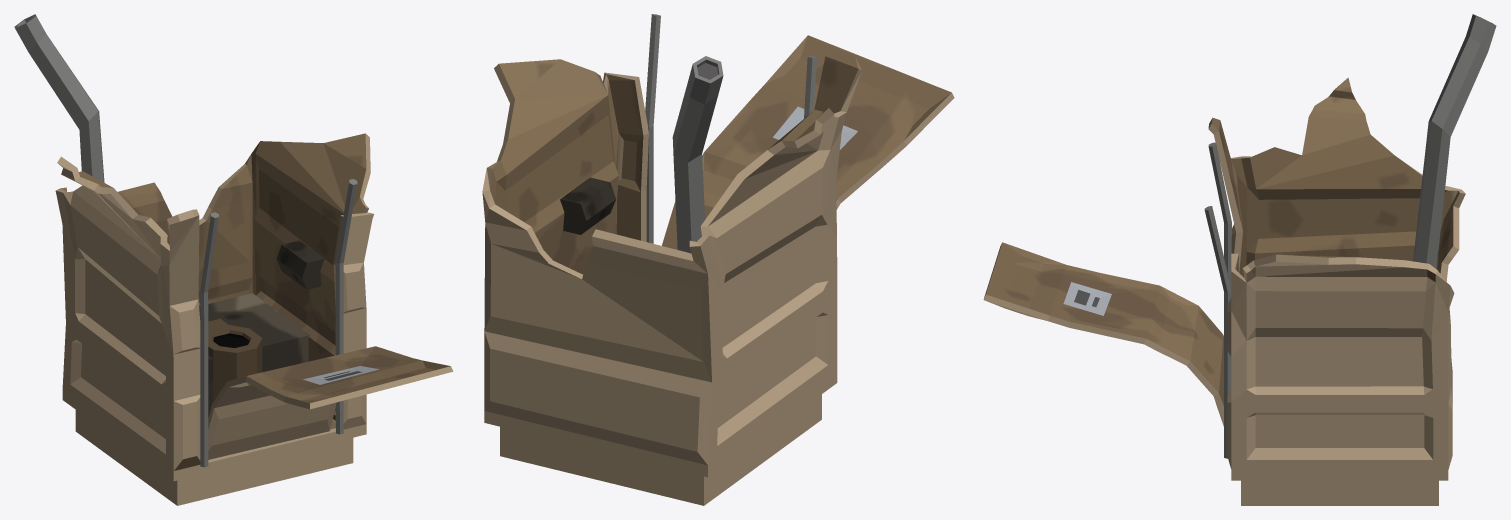
File: SM_Prop_Portaloo_Destroyed_01.fbx
3 views of the same model, side by side, from view 1: azimuth 30°, elevation 25°; view 2: azimuth 150°, elevation 25°; view 3: azimuth 270°, elevation 25° (orthographic). The views are drawn at different scales.
Parts seen in each view (by area): view 1: SM_Prop_Portaloo_Destroyed_01; view 2: SM_Prop_Portaloo_Destroyed_01; view 3: SM_Prop_Portaloo_Destroyed_01.
Boxes of the visible parts, <box> form: SM_Prop_Portaloo_Destroyed_01: <box>14,14,453,505</box>; SM_Prop_Portaloo_Destroyed_01: <box>482,14,954,505</box>; SM_Prop_Portaloo_Destroyed_01: <box>983,14,1496,505</box>.
Size of the model in its own units: 234 by 300 by 352.
